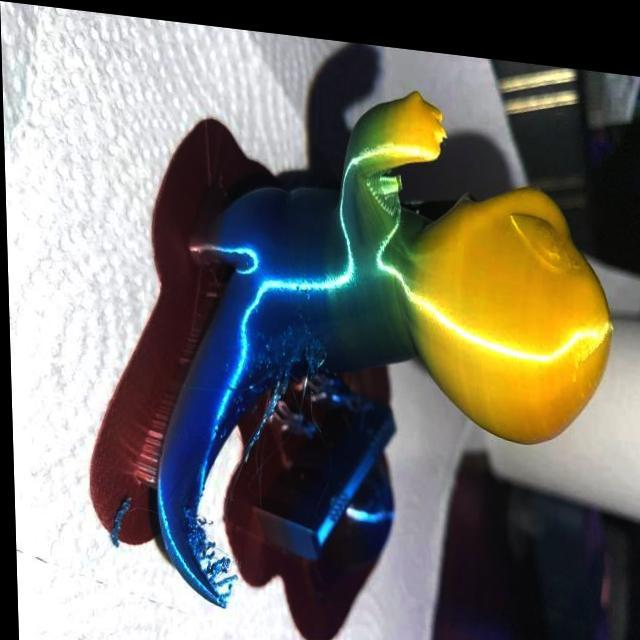stringing: (232, 329, 305, 456), (180, 501, 239, 596)
